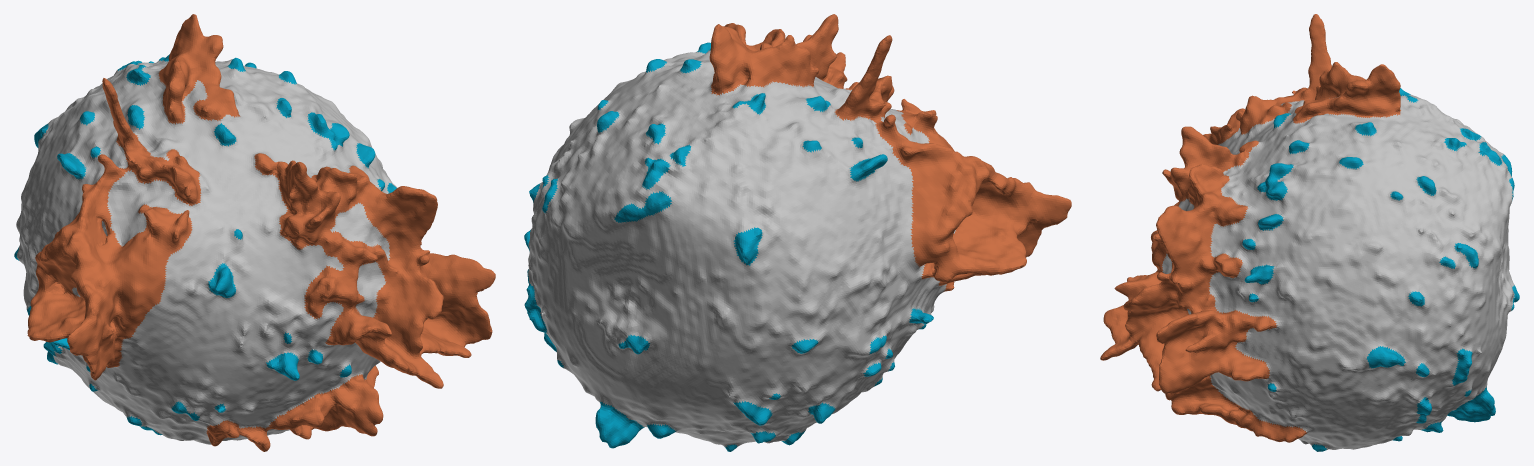
3 renders of one model, left to right at view 1: azimuth 30°, elevation 25°; view 2: azimuth 150°, elevation 25°; view 3: azimuth 270°, elevation 25°, orthographic. The views are drawn at different scales.
Size of the model in its own units: 177 by 166 by 173.
